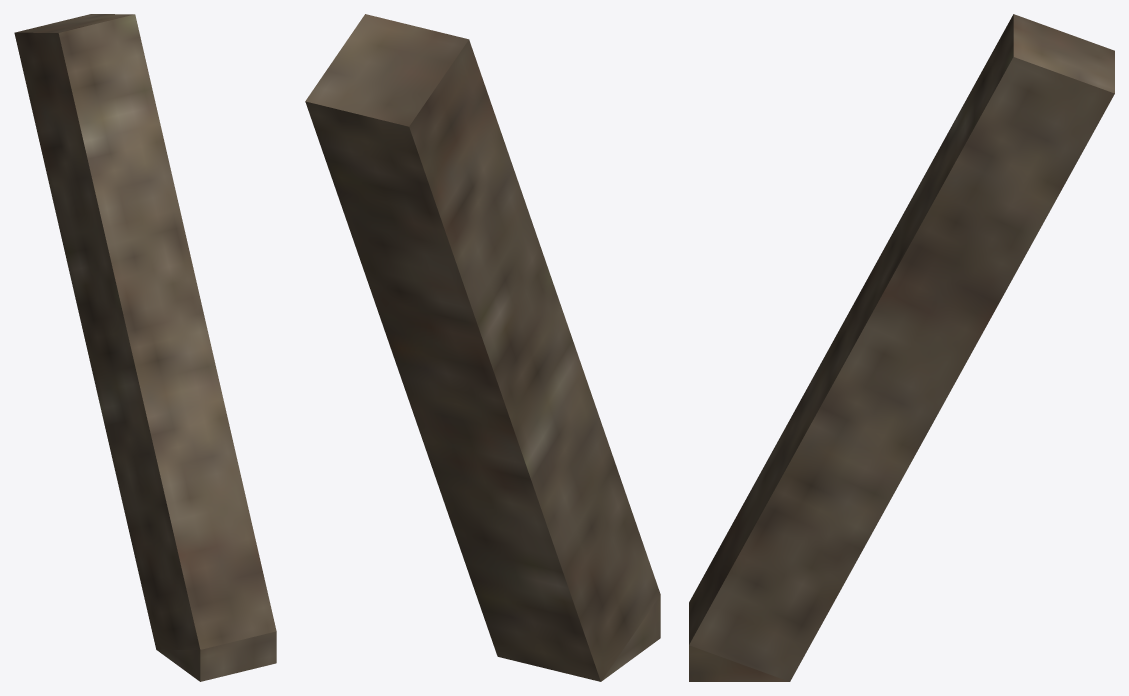
The model's file is whitebeam_thin_branch_22.5_straight.obj.
3 views of the same model, side by side, from view 1: azimuth 30°, elevation 25°; view 2: azimuth 150°, elevation 25°; view 3: azimuth 270°, elevation 25° (orthographic). The views are drawn at different scales.
Visible parts, largest first — view 1: cube_selection; view 2: cube_selection; view 3: cube_selection.
Part boxes in pixels (bbox=[...]): cube_selection: bbox=[14, 14, 276, 681]; cube_selection: bbox=[305, 14, 660, 681]; cube_selection: bbox=[689, 14, 1114, 681].
Size of the model in its own units: 0.3125 by 2.12 by 1.31.
